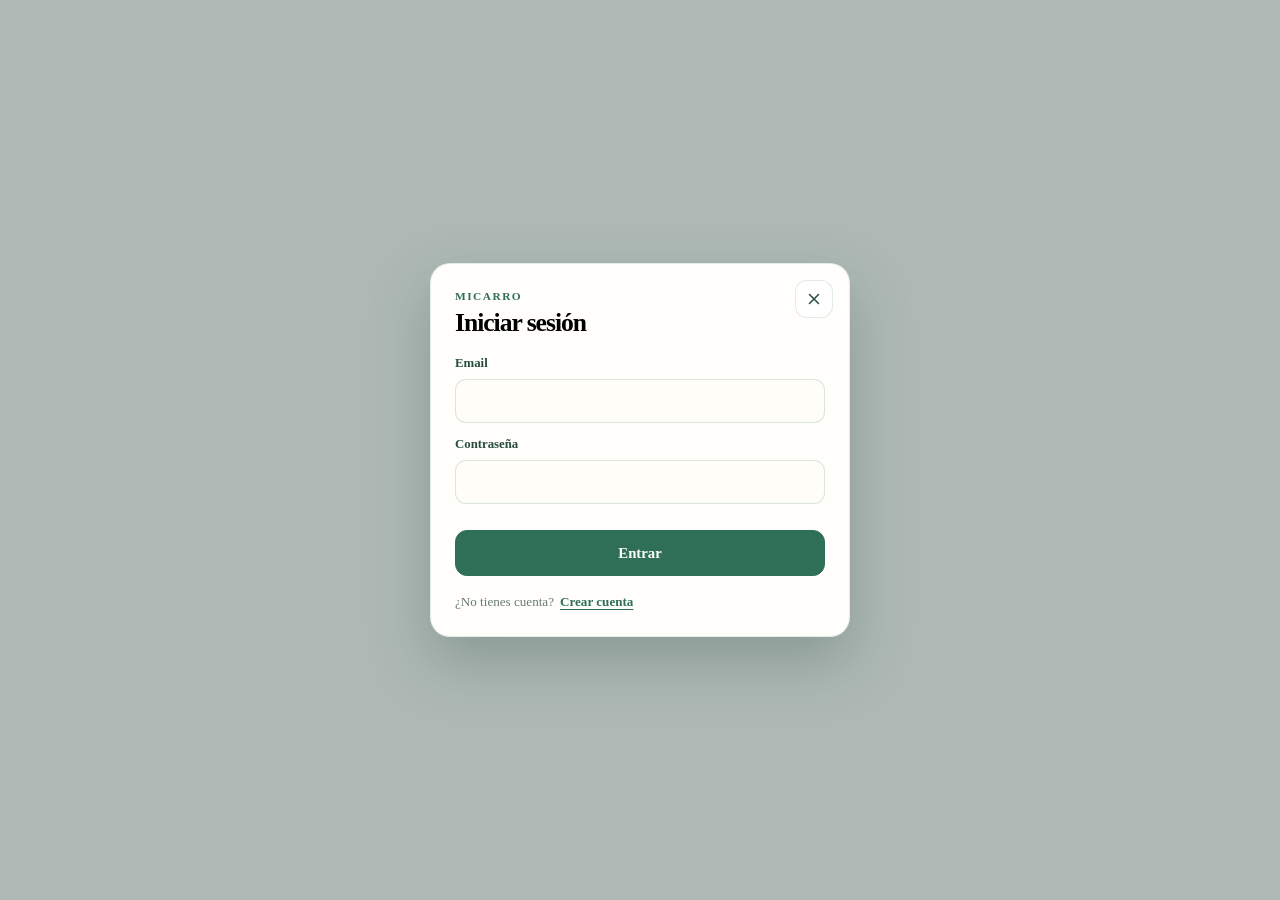
Test case: AuthModalComponent › permite alternar entre iniciar sesión y crear cuenta
The width and height of the screenshot is (1280, 900).
Click the button with class "auth-toggle" at (597,602), box [560,594,633,610]
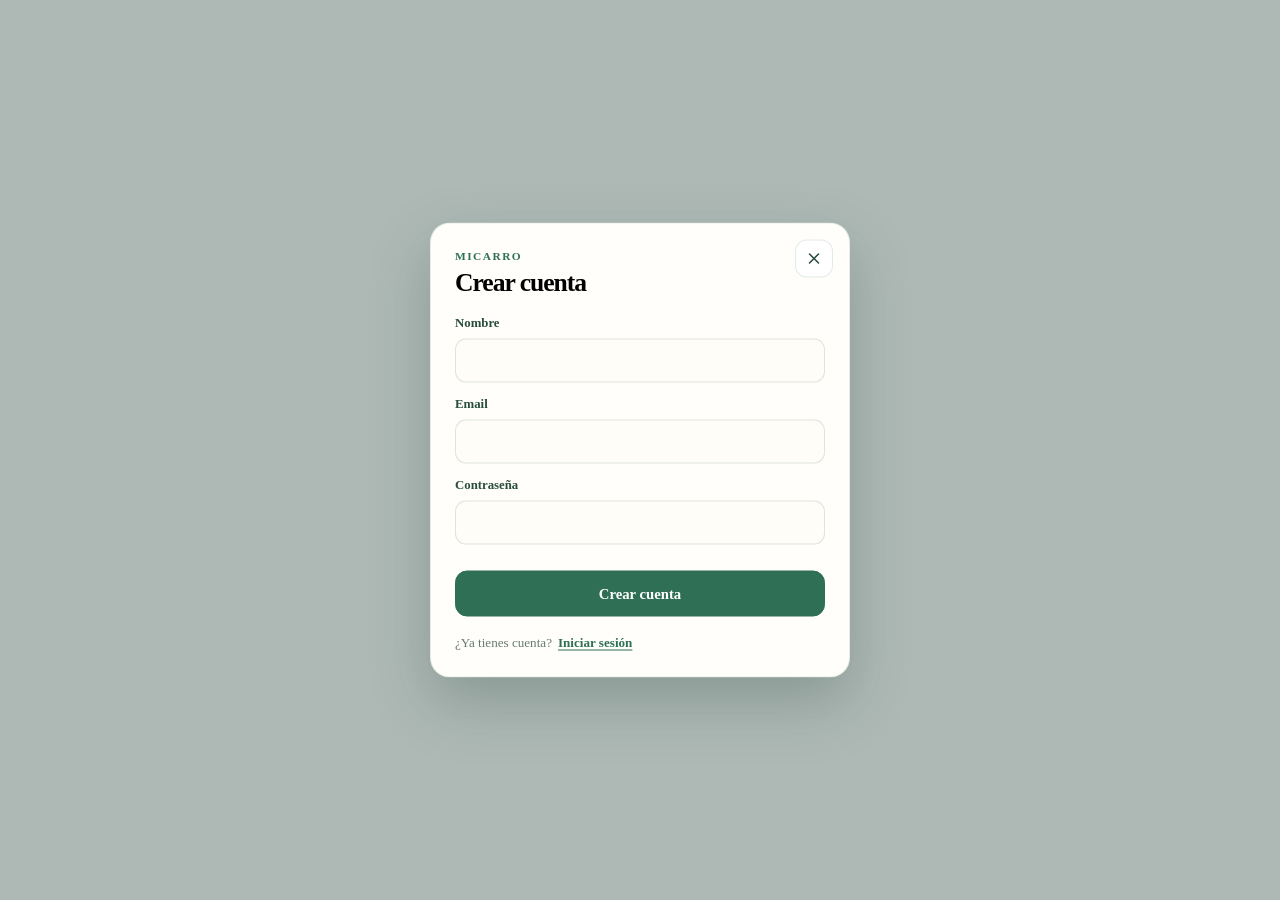
Expected: the heading with id "auth-title" reads "Crear cuenta", [455,268,586,296]
Expected: the field with id "auth-name" is shown, [455,338,825,382]
